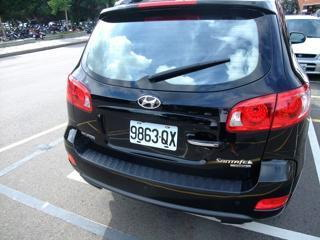plate: (129, 119, 180, 153)
